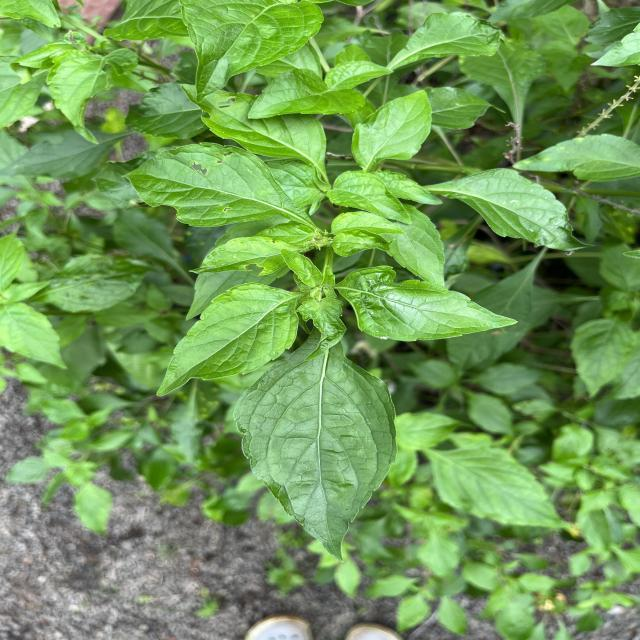Ocimum gratissimum: (231, 328, 399, 566), (152, 278, 302, 400), (117, 140, 307, 229), (175, 0, 328, 105), (426, 166, 600, 256), (336, 262, 522, 344), (380, 10, 505, 77), (348, 88, 434, 172), (509, 131, 640, 185), (322, 167, 416, 227)
